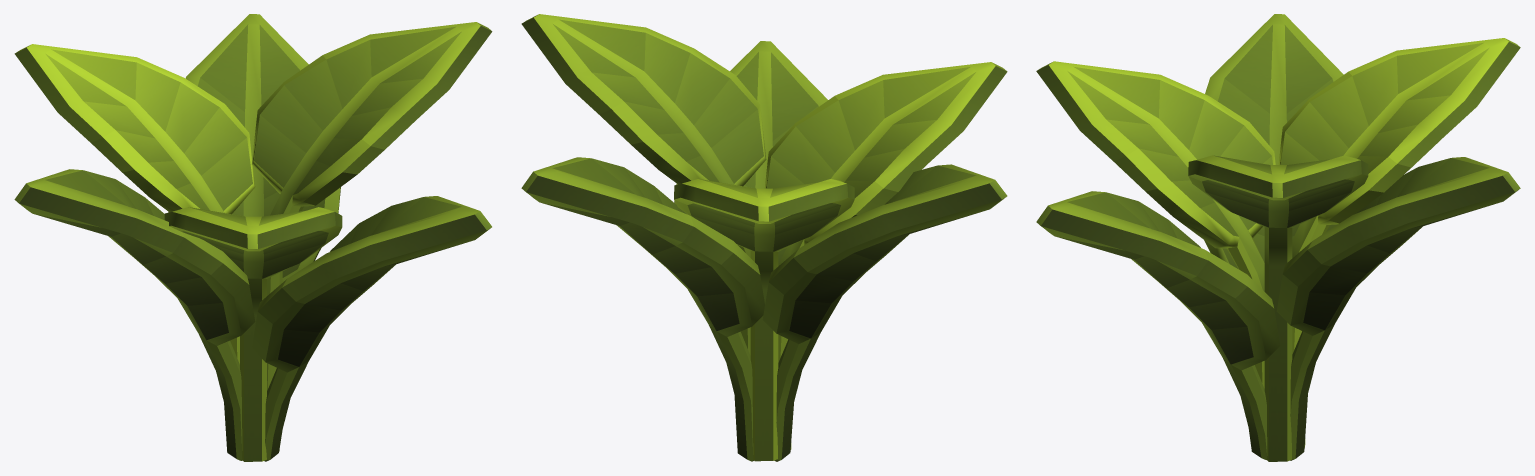
The model's file is heliconia_leaves_LOD_group.fbx.
The picture shows the model from 3 angles, left to right: view 1: azimuth 30°, elevation 25°; view 2: azimuth 150°, elevation 25°; view 3: azimuth 270°, elevation 25°; orthographic projection.
Parts seen in each view (by area): view 1: heliconia_leaves_LOD0; view 2: heliconia_leaves_LOD0; view 3: heliconia_leaves_LOD0.
Boxes of the visible parts, bbox=[...] form: heliconia_leaves_LOD0: bbox=[14, 14, 492, 461]; heliconia_leaves_LOD0: bbox=[521, 14, 1007, 461]; heliconia_leaves_LOD0: bbox=[1036, 14, 1520, 461].
Size of what is drawn, in the model's own units: 199 by 151 by 174.
1 material, 1 textured.
